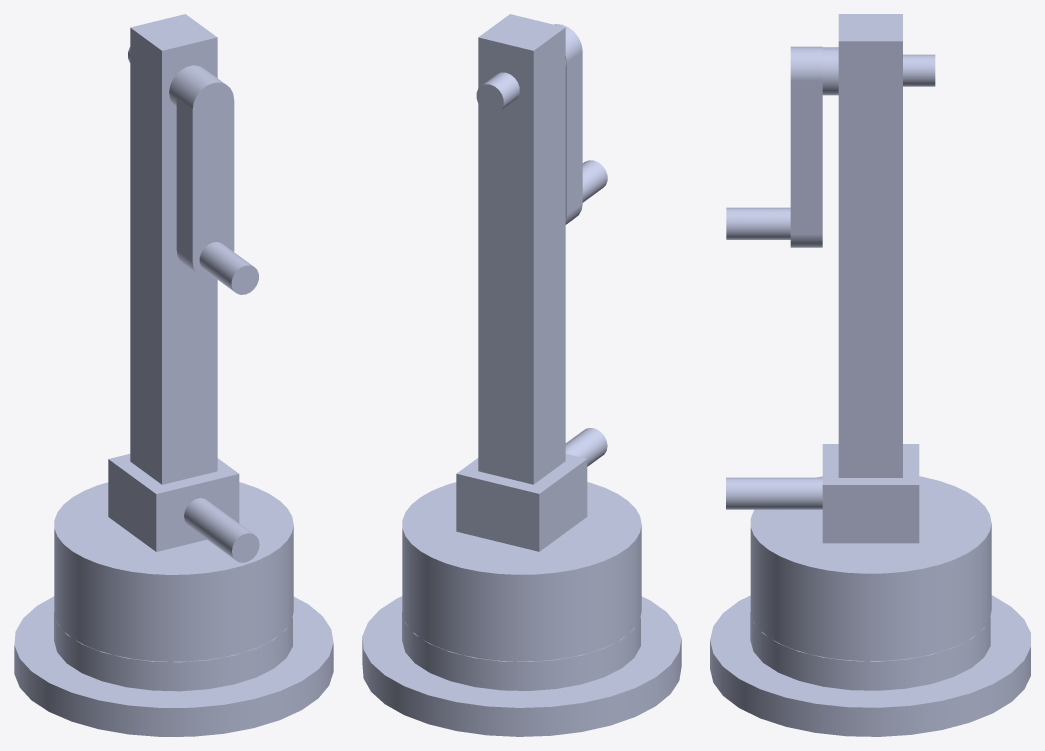
3 renders of one model, left to right at view 1: azimuth 30°, elevation 25°; view 2: azimuth 150°, elevation 25°; view 3: azimuth 270°, elevation 25°, orthographic.
Parts seen in each view (by area): view 1: 凸台-拉伸7, 凸台-拉伸3 (×2); view 2: 凸台-拉伸7, 凸台-拉伸3 (×2); view 3: 凸台-拉伸7, 凸台-拉伸3 (×2).
Boxes of the visible parts, x1,y1,x2,y2 form: 凸台-拉伸7: (14,14,333,736); 凸台-拉伸3 (×2): (54,47,293,661); 凸台-拉伸7: (362,14,681,736); 凸台-拉伸3 (×2): (402,24,641,661); 凸台-拉伸7: (710,14,1030,736); 凸台-拉伸3 (×2): (726,46,991,661).
Size of the model in its own units: 2.36 by 5.2 by 2.36.
